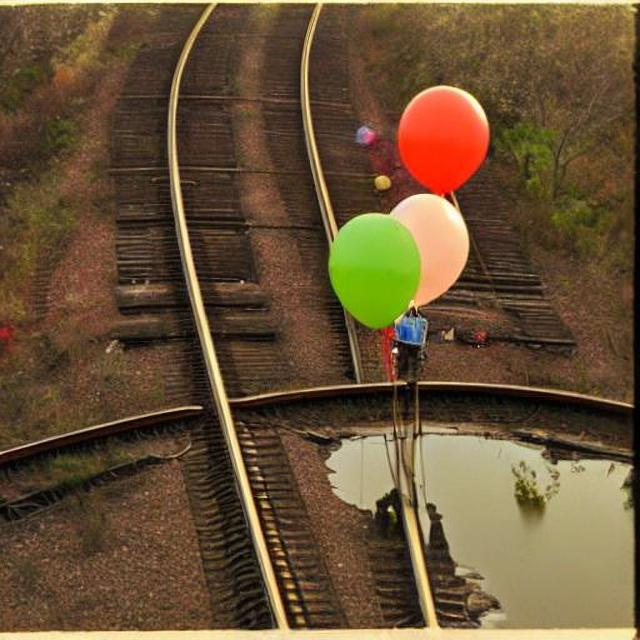balloon: (309, 72, 517, 330)
